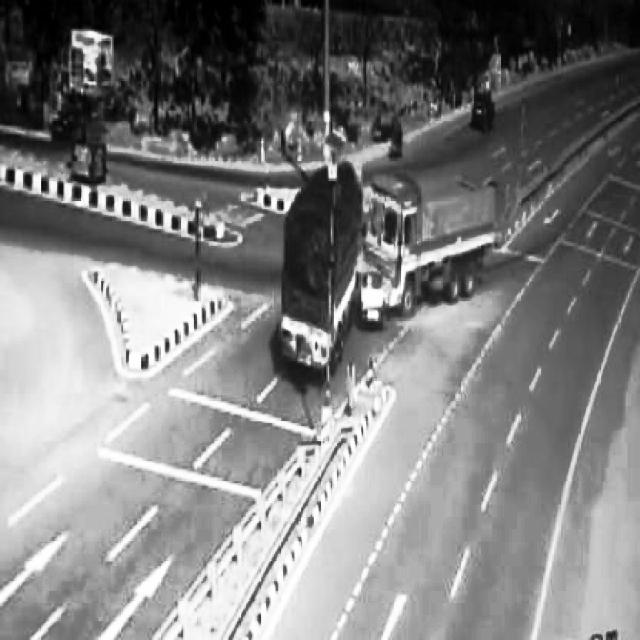HCV: (362, 189, 503, 286)
